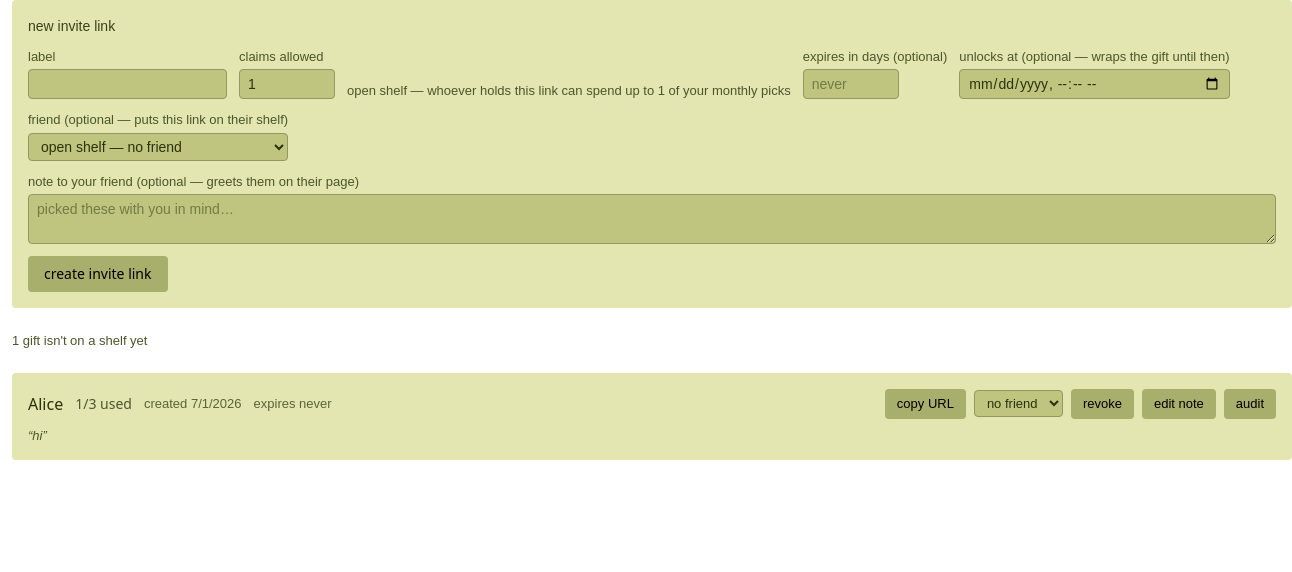
Test: Links › note editing › cancel clears a stale save-failure alert with the draft
Click the button with aria-label "edit note for Alice" at (1179, 404), box [1142, 389, 1216, 419]
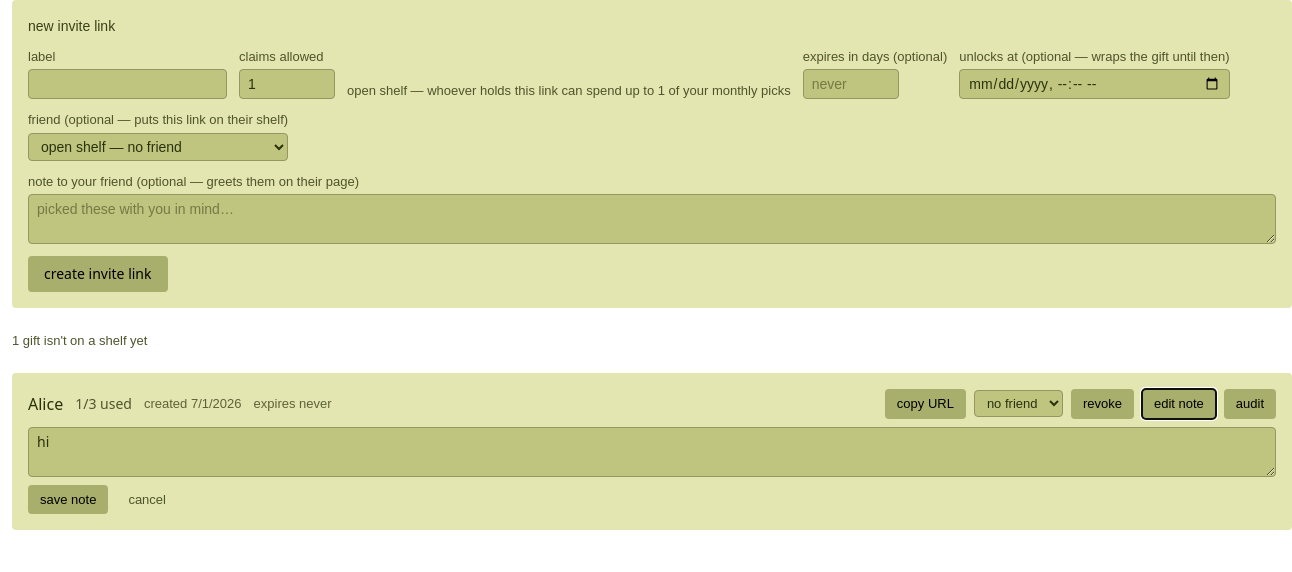
Replace the text in the text box named "note for Alice" with "hello" at (652, 452), box [28, 427, 1276, 477]
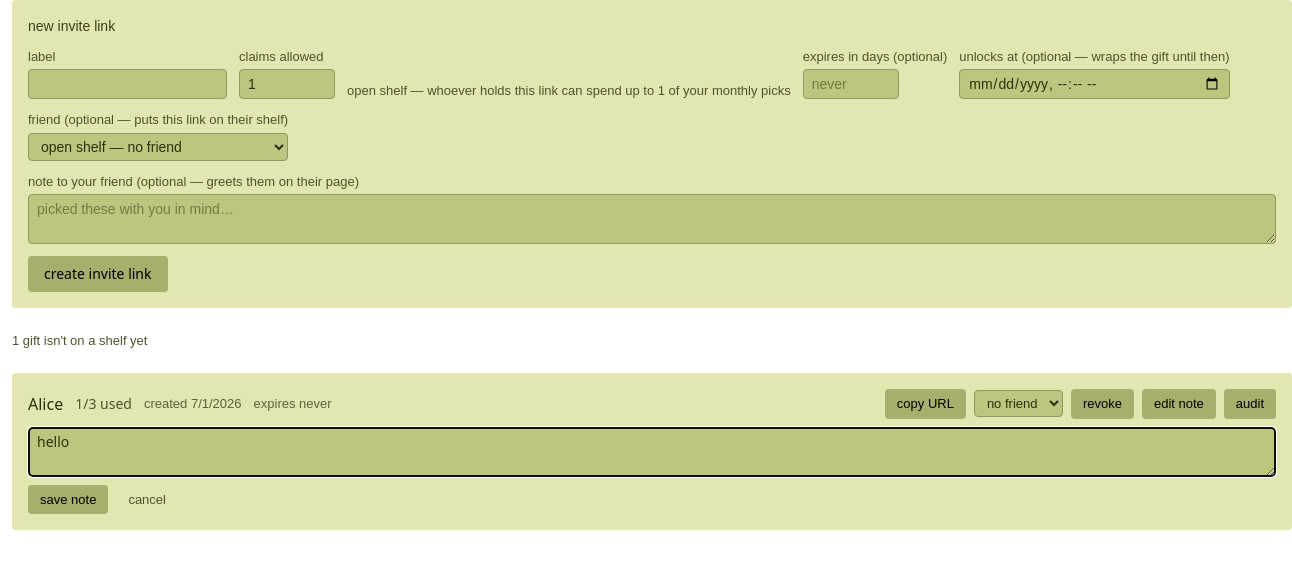
Click the button with aria-label "save note for Alice" at (68, 499), box [28, 485, 108, 514]
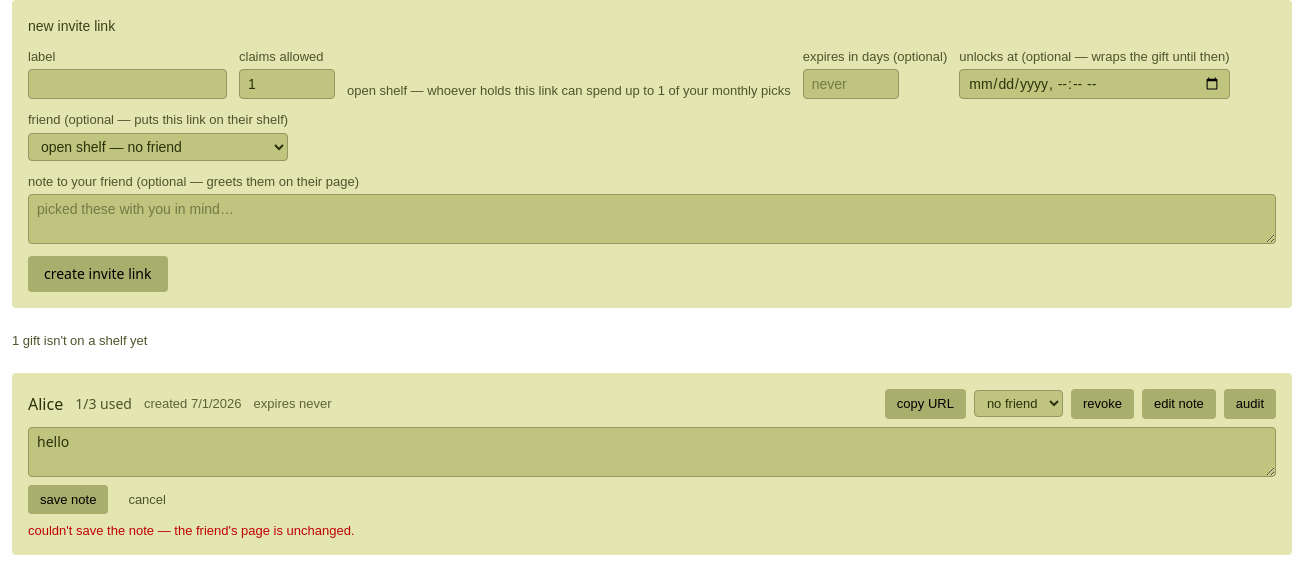
Now the message "couldn't save the note — the friend's page is unchanged." is shown, box [28, 523, 355, 538]
Click the button with aria-label "cancel note for Alice" at (147, 499), box [116, 485, 178, 514]
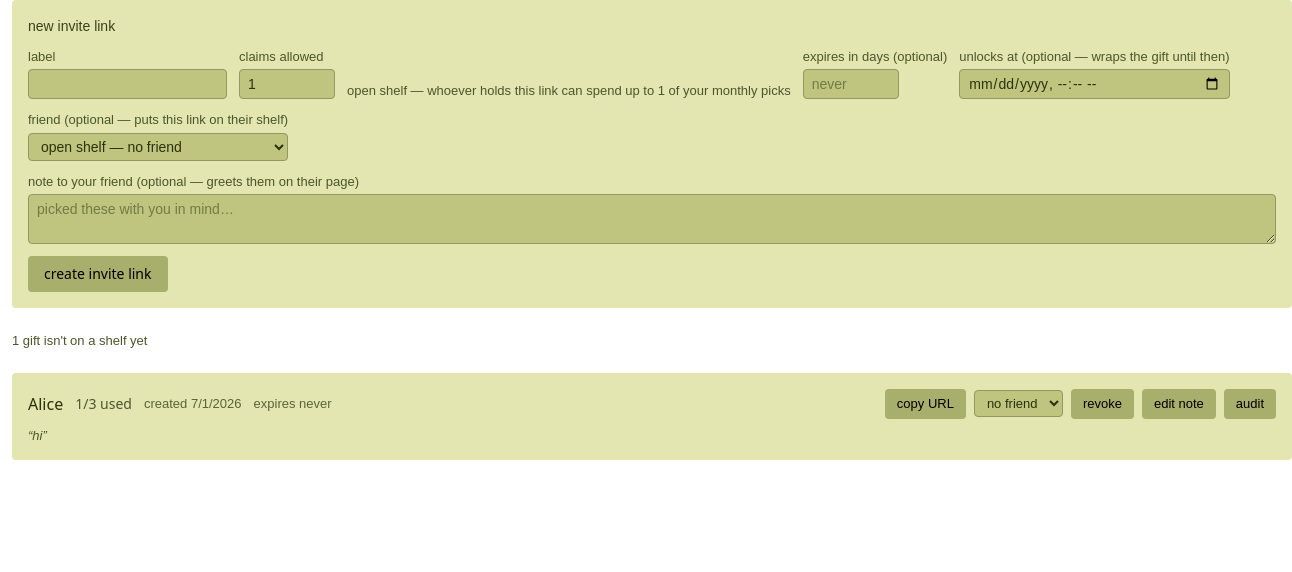
Now the message "couldn't save the note — the friend's page is unchanged." is gone
